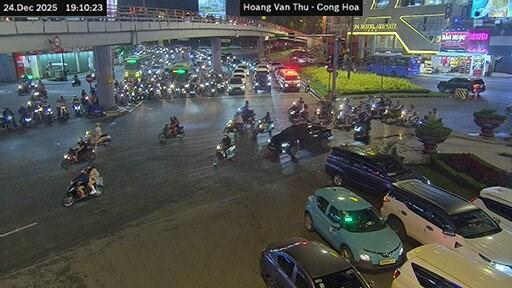motorbike: (61, 179, 102, 206), (60, 148, 95, 167), (332, 109, 357, 130), (157, 124, 184, 143), (211, 143, 234, 165), (396, 109, 419, 126), (310, 108, 332, 124), (86, 130, 111, 144), (237, 108, 256, 126), (288, 103, 307, 121), (224, 118, 245, 134), (252, 120, 272, 136), (380, 107, 402, 121), (354, 121, 368, 140), (83, 104, 105, 116), (0, 113, 16, 129), (371, 100, 384, 117), (18, 81, 34, 94), (19, 112, 32, 126), (42, 106, 54, 121), (57, 106, 69, 120), (32, 106, 42, 122), (35, 85, 46, 98), (71, 102, 80, 116), (70, 77, 80, 85), (505, 103, 511, 112)
